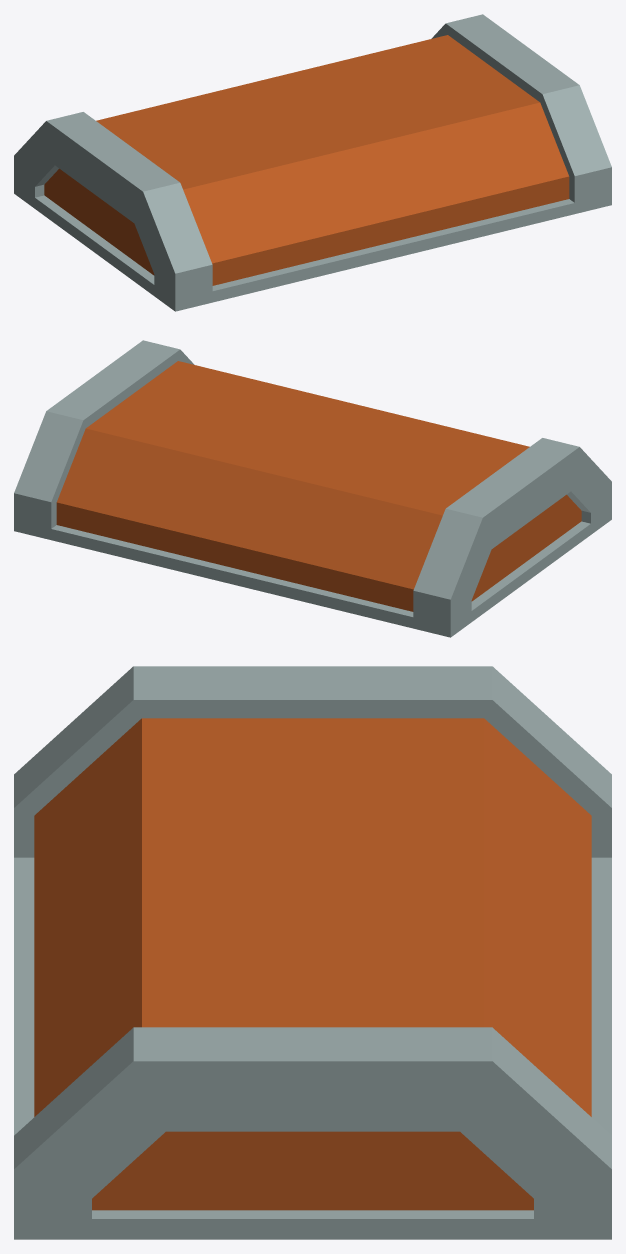
The model's file is Treasure Chest Top.fbx.
3 views of the same model, one above another, from view 1: azimuth 30°, elevation 25°; view 2: azimuth 150°, elevation 25°; view 3: azimuth 270°, elevation 25° (orthographic). The views are drawn at different scales.
Parts seen in each view (by area): view 1: Chest1.001; view 2: Chest1.001; view 3: Chest1.001.
Part boxes in pixels (<box>): Chest1.001: <box>14,14,611,311</box>; Chest1.001: <box>14,340,611,637</box>; Chest1.001: <box>14,666,611,1239</box>.
Size of the model in its own units: 324 by 68.26 by 207.
